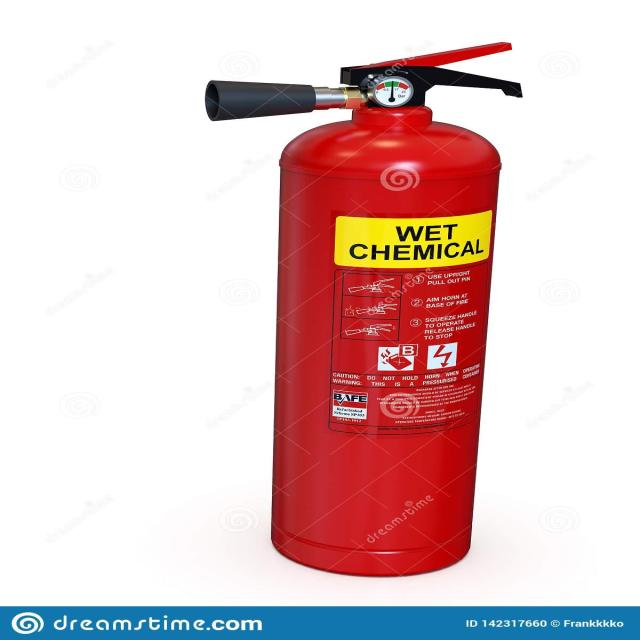fire_extinguisher: (196, 39, 527, 578)
